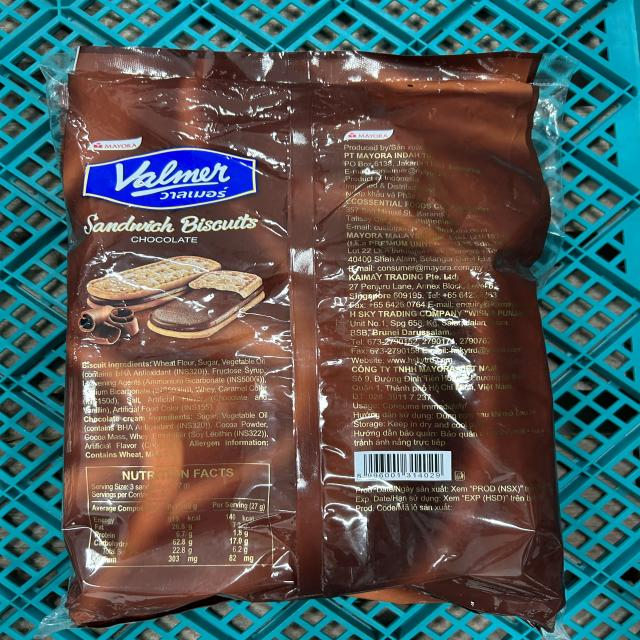object_name: (73, 55, 547, 610)
